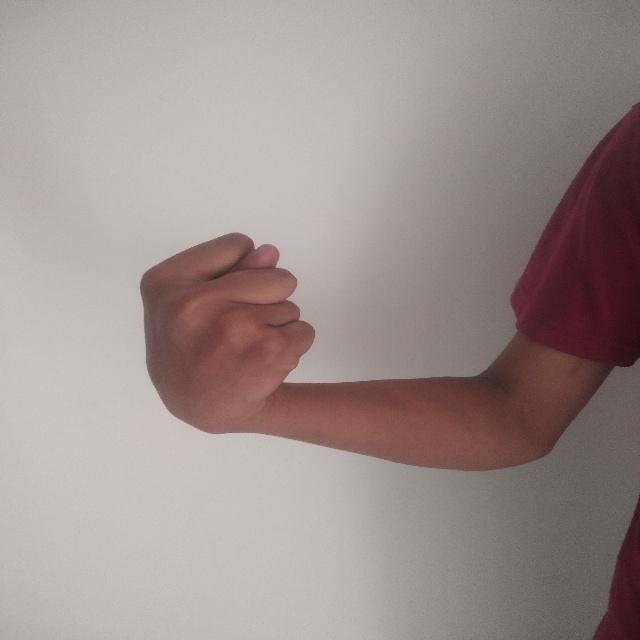Dulya: (136, 228, 321, 450)
